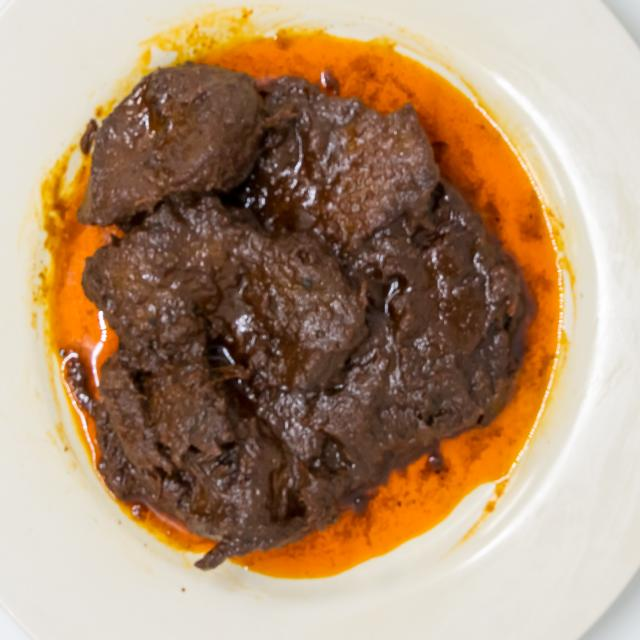Rendang: (54, 38, 551, 576)
